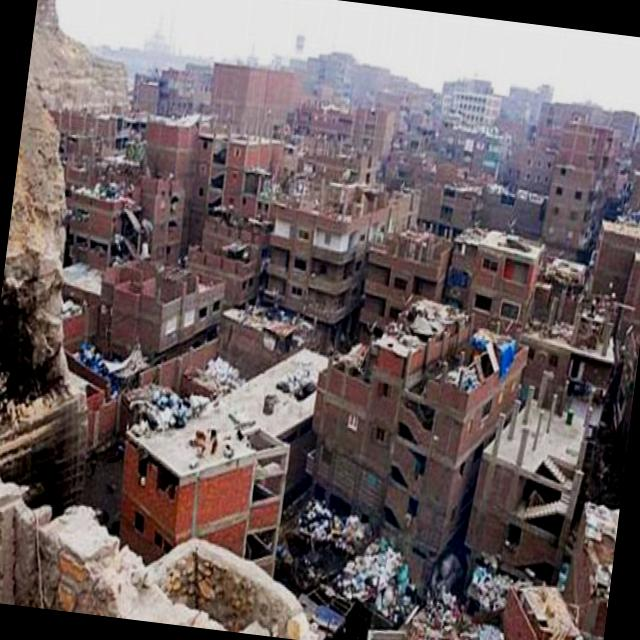garbage: (299, 526, 416, 618), (416, 580, 527, 640), (150, 373, 207, 445)
